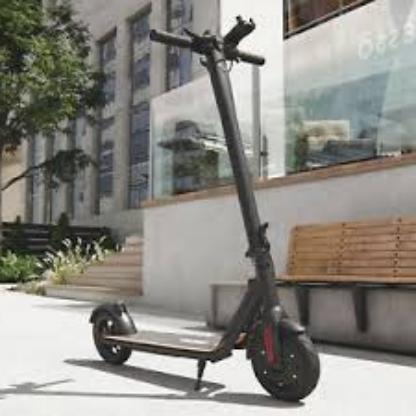bike: (89, 222, 321, 404)
